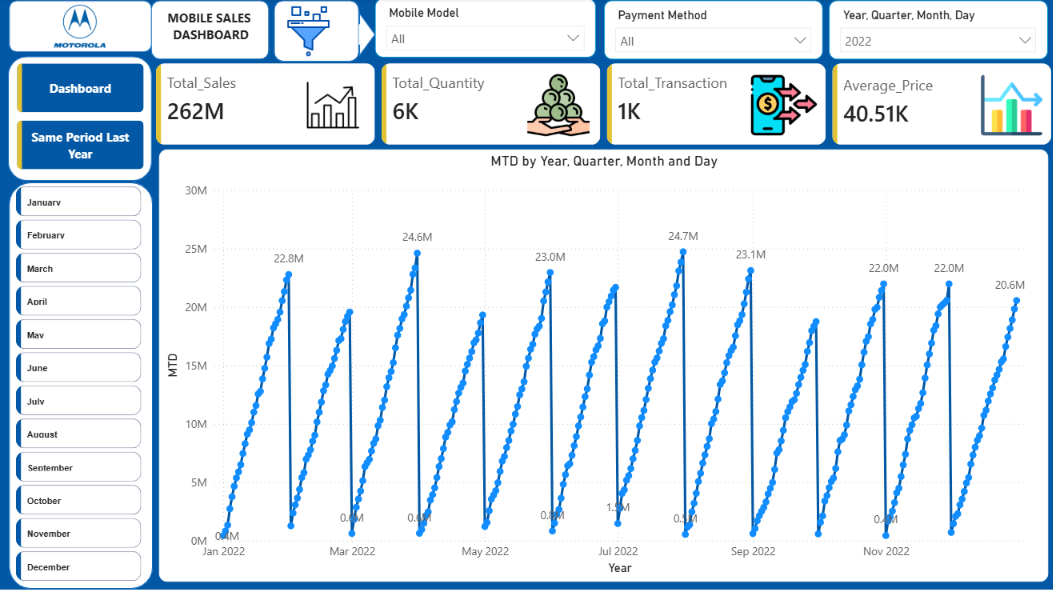

Layout of this report page (visuals, bound fields, positions):
{"tool":"powerbi","page":{"name":"MTD Report","canvas":[1280,720],"ordinal":1},"visuals":[{"type":"shape","box":[15.3,222.2,173.6,490.3],"z":0},{"type":"shape","box":[418.5,16.3,39.1,53.3],"z":1000},{"type":"shape","box":[15.3,2.8,172.2,62.5],"z":2000},{"type":"image","box":[46.2,2.5,110,62.5],"z":3000},{"type":"shape","box":[13.9,69.4,173.6,150],"z":4000},{"type":"cardVisual","fields":{"Data":["Mobile Sales Data.Total_Sales","Mobile Sales Data.Total_Quantity","Mobile Sales Data.Total_Transaction","Mobile Sales Data.Average_Price"]},"box":[188.8,73.8,1091.2,108.8],"z":5000},{"type":"slicer","fields":{"Values":["Mobile Sales Data.Mobile Model"]},"box":[457.5,0,266.2,71.2],"z":6000},{"type":"slicer","fields":{"Values":["Mobile Sales Data.Payment Method"]},"box":[733.8,2.5,263.8,71.2],"z":7000},{"type":"slicer","fields":{"Values":["Custom Calender.Date.Variation.Date Hierarchy.Year","Custom Calender.Date.Variation.Date Hierarchy.Quarter","Custom Calender.Date.Variation.Date Hierarchy.Month","Custom Calender.Date.Variation.Date Hierarchy.Day"]},"box":[1005,2.5,263.8,71.2],"z":8000},{"type":"shape","box":[335,2.5,102.5,73.8],"z":9000},{"type":"image","box":[326.2,8.8,102.5,62.5],"z":10000},{"type":"shape","box":[187.5,2.5,142.5,71.2],"z":11000},{"type":"textbox","box":[195,8.8,127.5,56.2],"z":12000},{"type":"lineChart","fields":{"Y":["Mobile Sales Data.MTD"],"Category":["Custom Calender.Date.Variation.Date Hierarchy.Year","Custom Calender.Date.Variation.Date Hierarchy.Quarter","Custom Calender.Date.Variation.Date Hierarchy.Month","Custom Calender.Date.Variation.Date Hierarchy.Day"]},"box":[196.7,182.6,1072.8,521.7],"z":13000},{"type":"advancedSlicerVisual","fields":{"Values":["Custom Calender.Date.Variation.Date Hierarchy.Month"]},"box":[19.7,222.5,162,497.2],"z":14000},{"type":"pageNavigator","box":[25,78.6,153.6,129.8],"z":15000}]}

Visuals, with their boxes in screenshot pixels (x1, y1, x2, y2), scaled from the page's 1280x720 canvas onto the 1053x590 screenshot:
shape: pyautogui.locateOnScreen(13, 182, 155, 584)
shape: pyautogui.locateOnScreen(344, 13, 376, 57)
shape: pyautogui.locateOnScreen(13, 2, 154, 54)
image: pyautogui.locateOnScreen(38, 2, 128, 53)
shape: pyautogui.locateOnScreen(11, 57, 154, 180)
cardVisual - Mobile Sales Data.Total_Sales x Mobile Sales Data.Total_Quantity: pyautogui.locateOnScreen(155, 60, 1052, 150)
slicer - Mobile Sales Data.Mobile Model: pyautogui.locateOnScreen(376, 0, 595, 58)
slicer - Mobile Sales Data.Payment Method: pyautogui.locateOnScreen(604, 2, 821, 60)
slicer - Custom Calender.Date.Variation.Date Hierarchy.Year x Custom Calender.Date.Variation.Date Hierarchy.Quarter: pyautogui.locateOnScreen(827, 2, 1044, 60)
shape: pyautogui.locateOnScreen(276, 2, 360, 63)
image: pyautogui.locateOnScreen(268, 7, 353, 58)
shape: pyautogui.locateOnScreen(154, 2, 271, 60)
textbox: pyautogui.locateOnScreen(160, 7, 265, 53)
lineChart - Mobile Sales Data.MTD x Custom Calender.Date.Variation.Date Hierarchy.Year: pyautogui.locateOnScreen(162, 150, 1044, 577)
advancedSlicerVisual - Custom Calender.Date.Variation.Date Hierarchy.Month: pyautogui.locateOnScreen(16, 182, 149, 589)
pageNavigator: pyautogui.locateOnScreen(21, 64, 147, 171)
